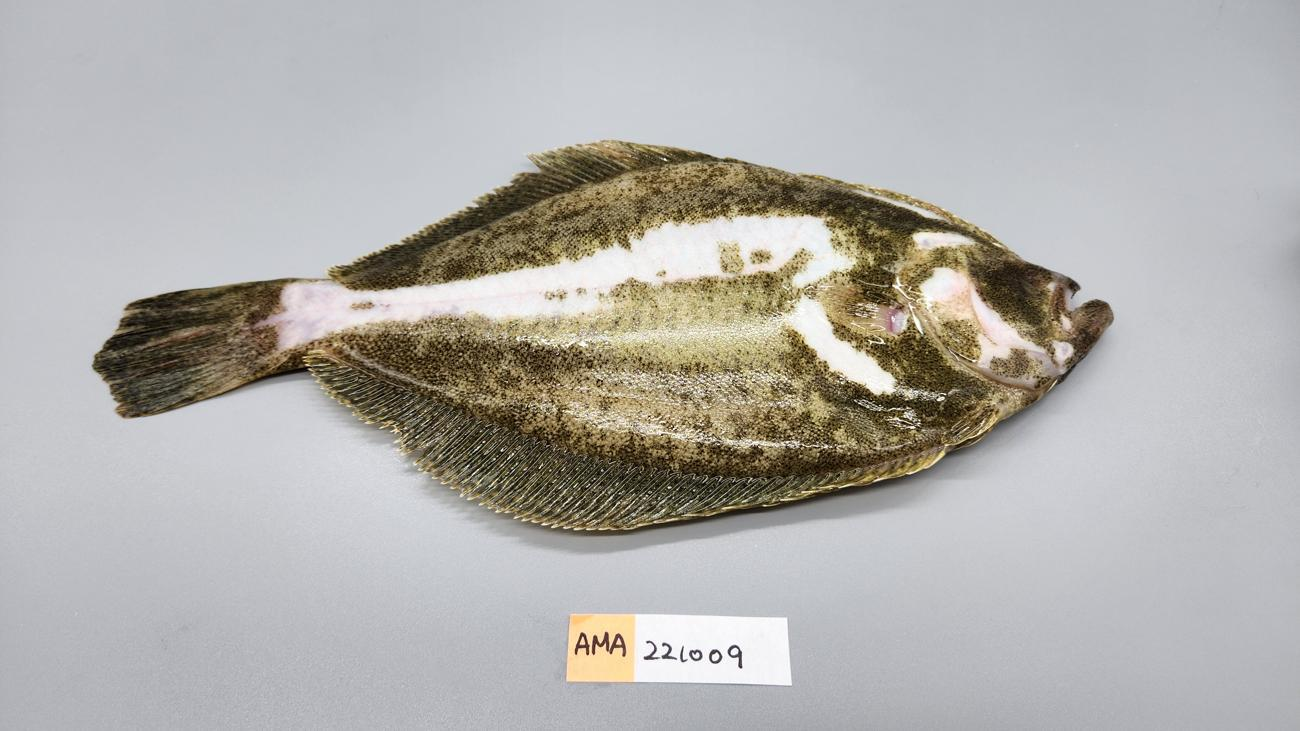MAOUY: (93, 139, 1114, 530)
